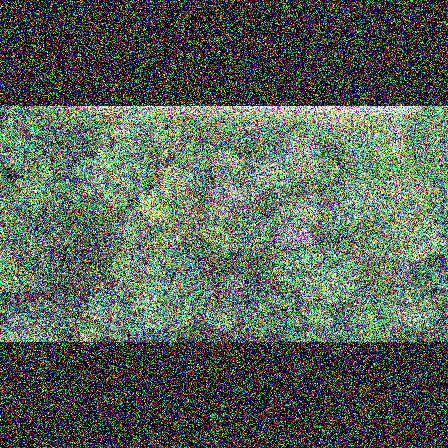Dead: (270, 215, 316, 248), (220, 271, 252, 302), (251, 151, 285, 176), (225, 185, 259, 204), (210, 184, 225, 200)
